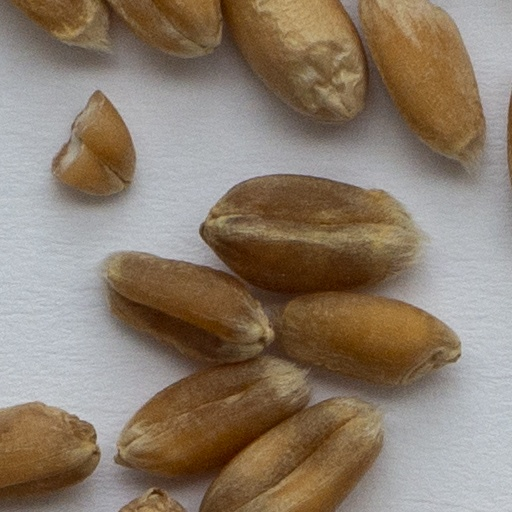Wheat-grain-damaged-poly: (54, 92, 135, 195)
